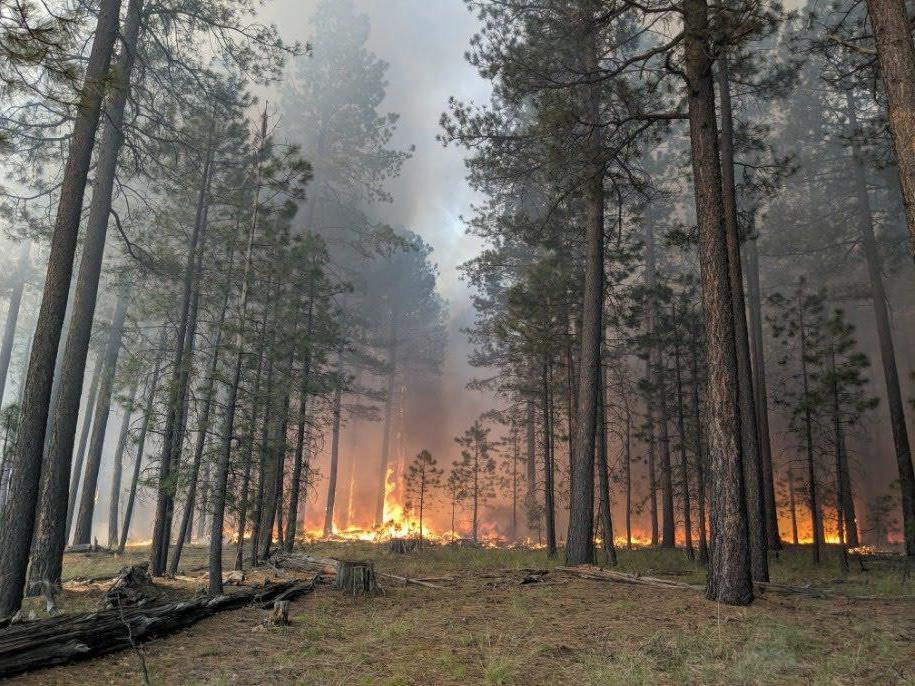Fire: (303, 468, 474, 546), (776, 520, 858, 549), (587, 527, 661, 555)
